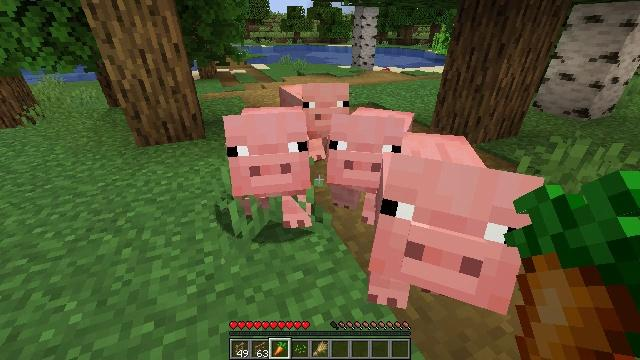pig: (369, 134, 545, 314), (224, 106, 314, 229), (327, 106, 414, 224), (280, 82, 351, 161)
